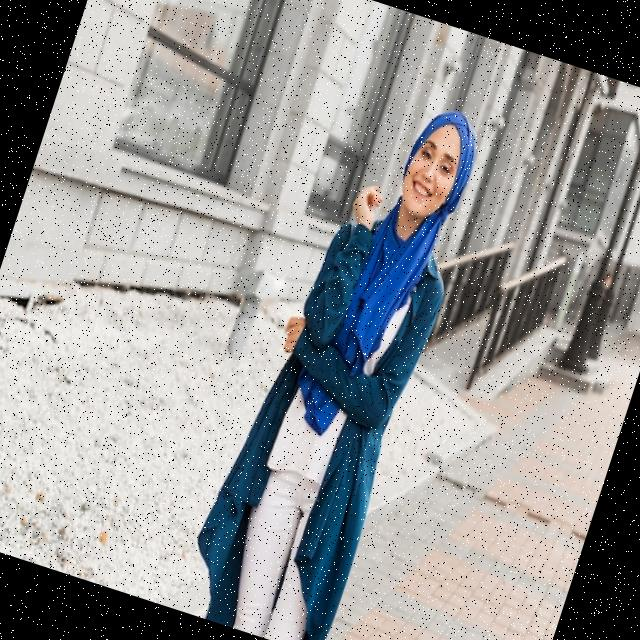Person: (173, 73, 500, 640)
